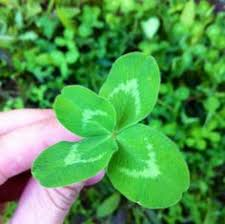4-clover: (34, 53, 189, 208)
